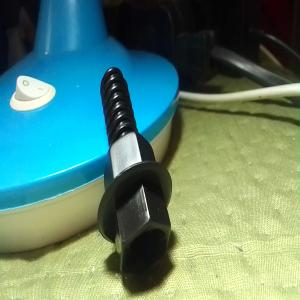parafuso: (97, 66, 173, 275)
